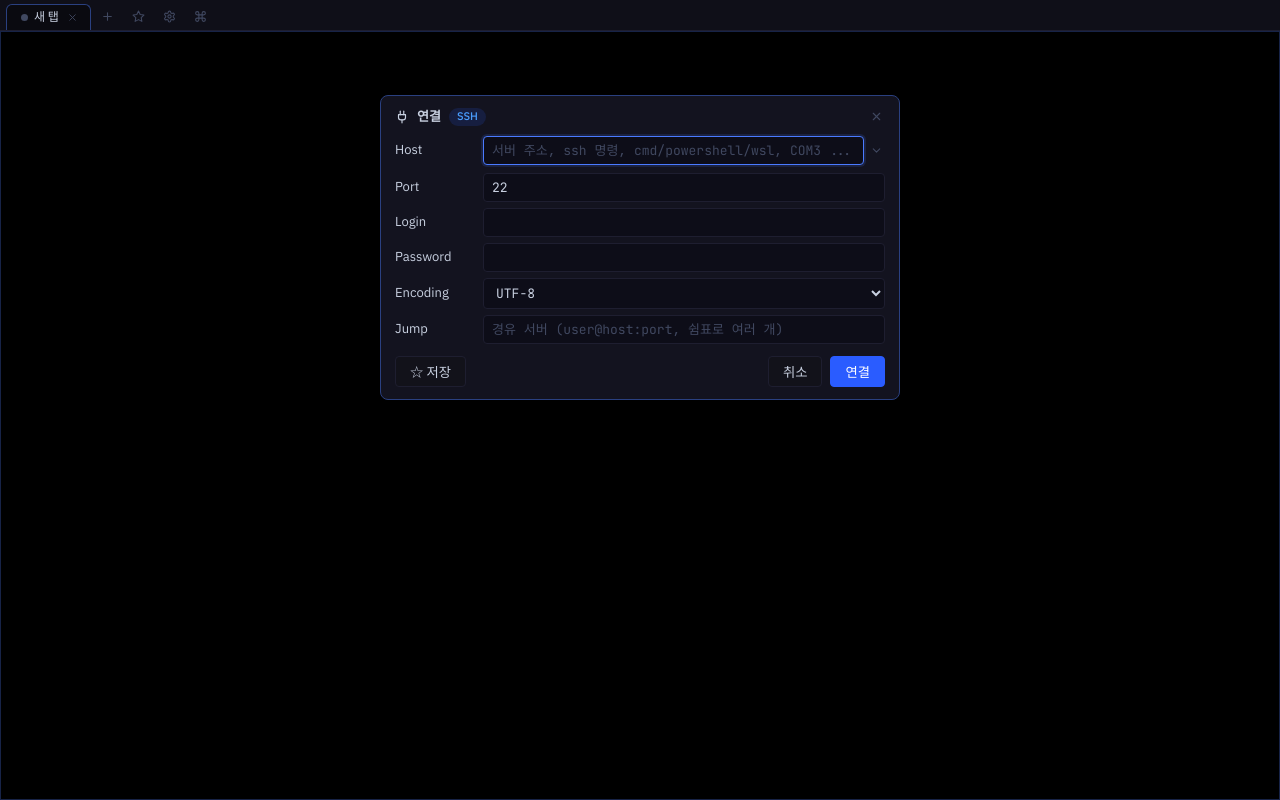
Test: 웹 서버 (WB) › WB-02: 시작 실패 → 이유 표시
The width and height of the screenshot is (1280, 800).
Expected: the field labelled "Host" is shown, top-left (483, 136), bottom-right (864, 165)
Press O in the element showing "새 탭 연결 SSH Host Port Login Password Encoding Jump ☆ 저장 취소 연결"
(page scrolled)
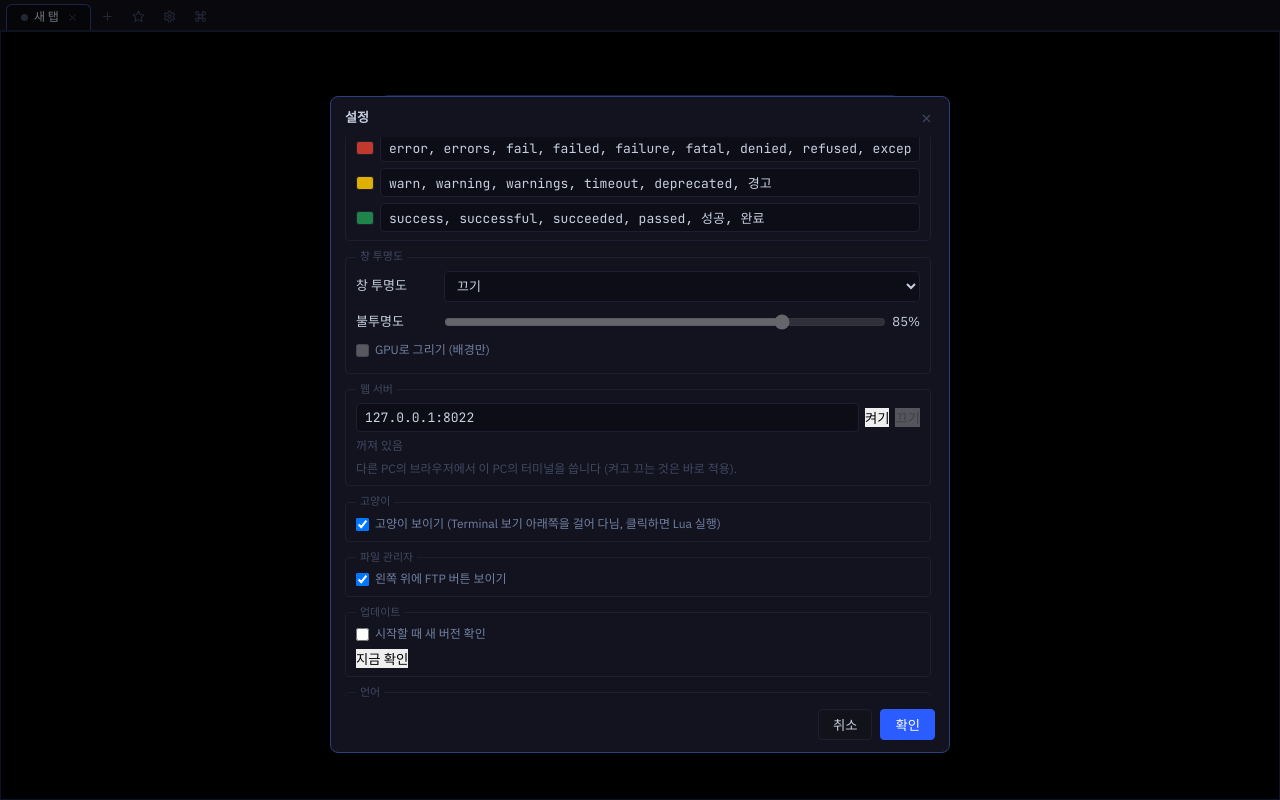
Click the button "켜기" at (877, 417), box top-left (865, 408), bottom-right (889, 427)
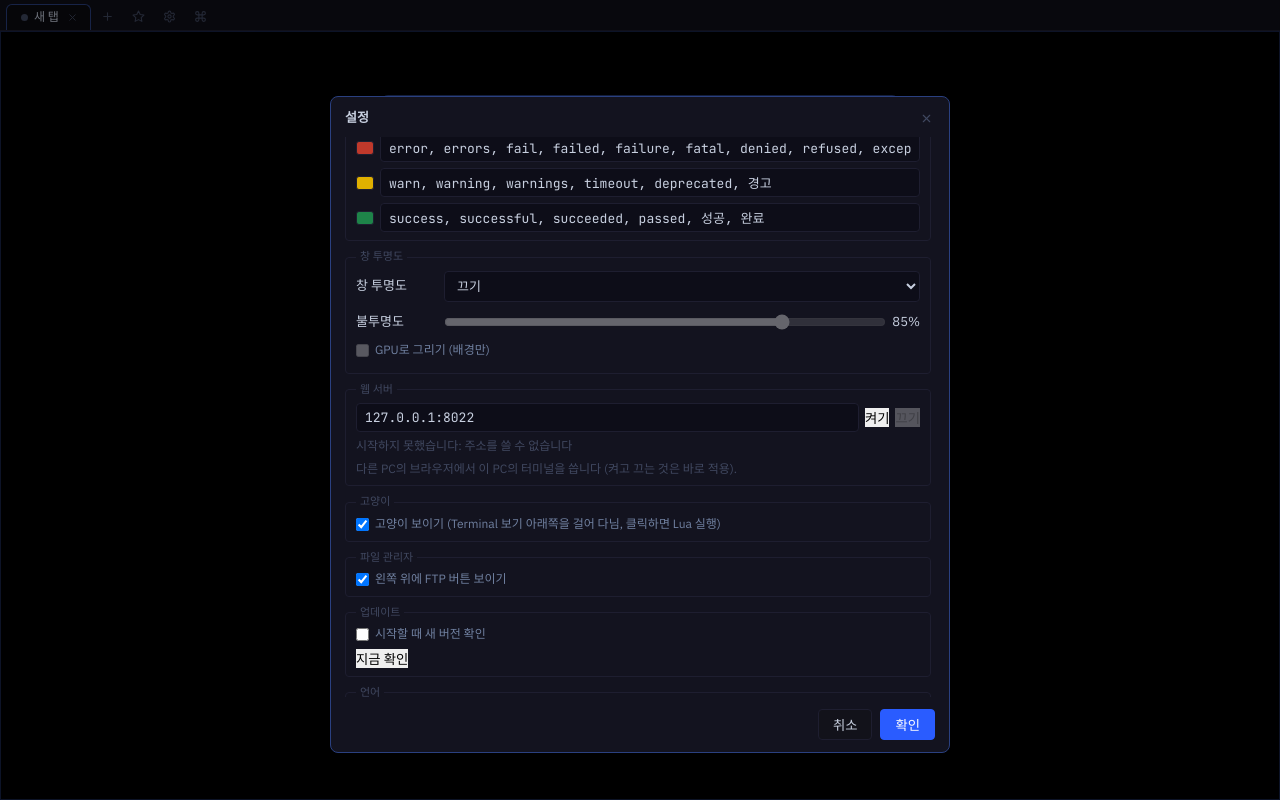
Now the text "시작하지 못했습니다: 주소를 쓸 수 없습니다" is shown, box top-left (356, 438), bottom-right (572, 453)
